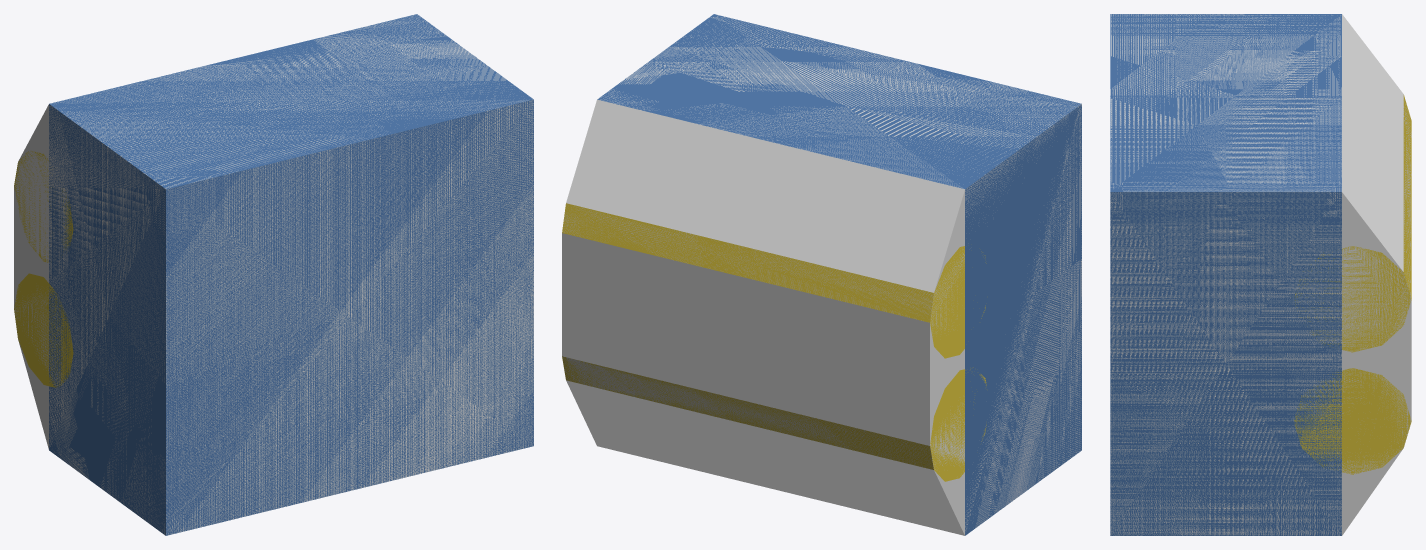
Rendered from Barrier_Tecpro_1m.glb.
3 renders of one model, left to right at view 1: azimuth 30°, elevation 25°; view 2: azimuth 150°, elevation 25°; view 3: azimuth 270°, elevation 25°, orthographic.
Visible parts, largest first — view 1: Barrier_Tecpro_1m_LOD0, Barrier_Tecpro_1m_COL; view 2: Barrier_Tecpro_1m_COL, Barrier_Tecpro_1m_LOD0; view 3: Barrier_Tecpro_1m_LOD0, Barrier_Tecpro_1m_COL.
Part boxes in pixels (x1=…): Barrier_Tecpro_1m_LOD0: x1=14, y1=14, x2=533, y2=535; Barrier_Tecpro_1m_COL: x1=14, y1=14, x2=533, y2=534; Barrier_Tecpro_1m_COL: x1=562, y1=15, x2=1081, y2=535; Barrier_Tecpro_1m_LOD0: x1=562, y1=14, x2=1081, y2=535; Barrier_Tecpro_1m_LOD0: x1=1110, y1=14, x2=1411, y2=535; Barrier_Tecpro_1m_COL: x1=1110, y1=14, x2=1411, y2=535.
Size of what is drawn, in the model's own units: 1 by 0.9 by 0.715.
